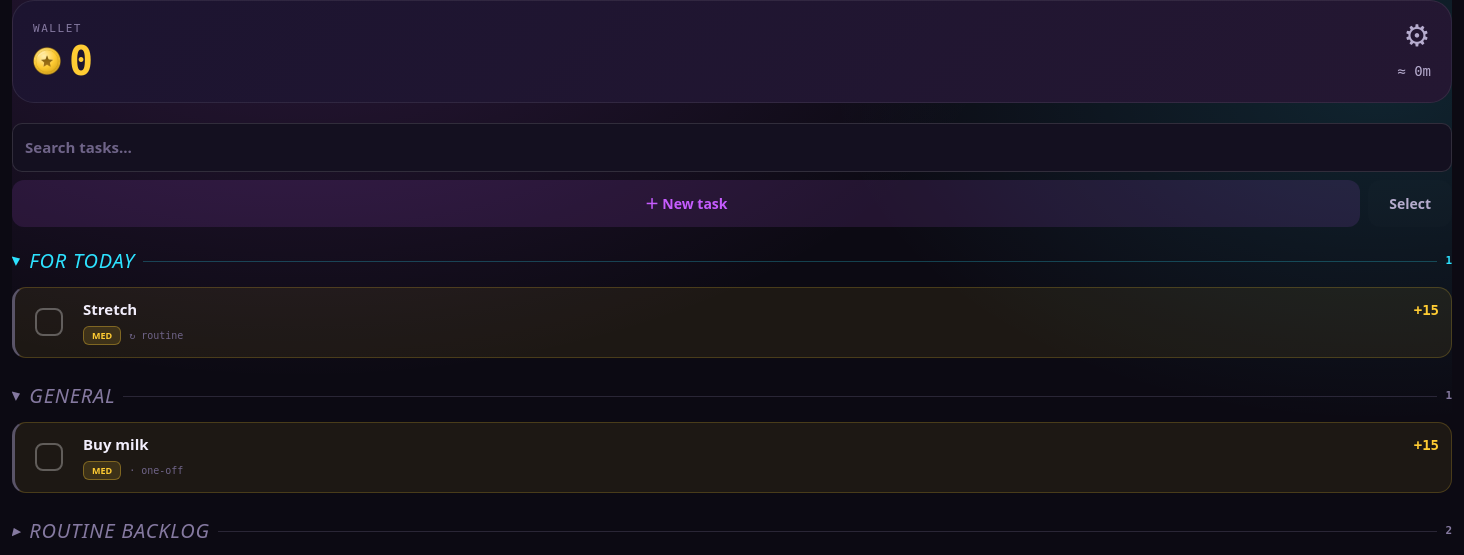
searching the list › narrows the list as it is typed, with nothing to submit
This screenshot has width=1464, height=555.
Expected: the button "Buy milk" is shown, [83,435,1402,453]
Type "milk" into the search field labelled "Search tasks…" at (732, 148), box [12,123,1452,172]
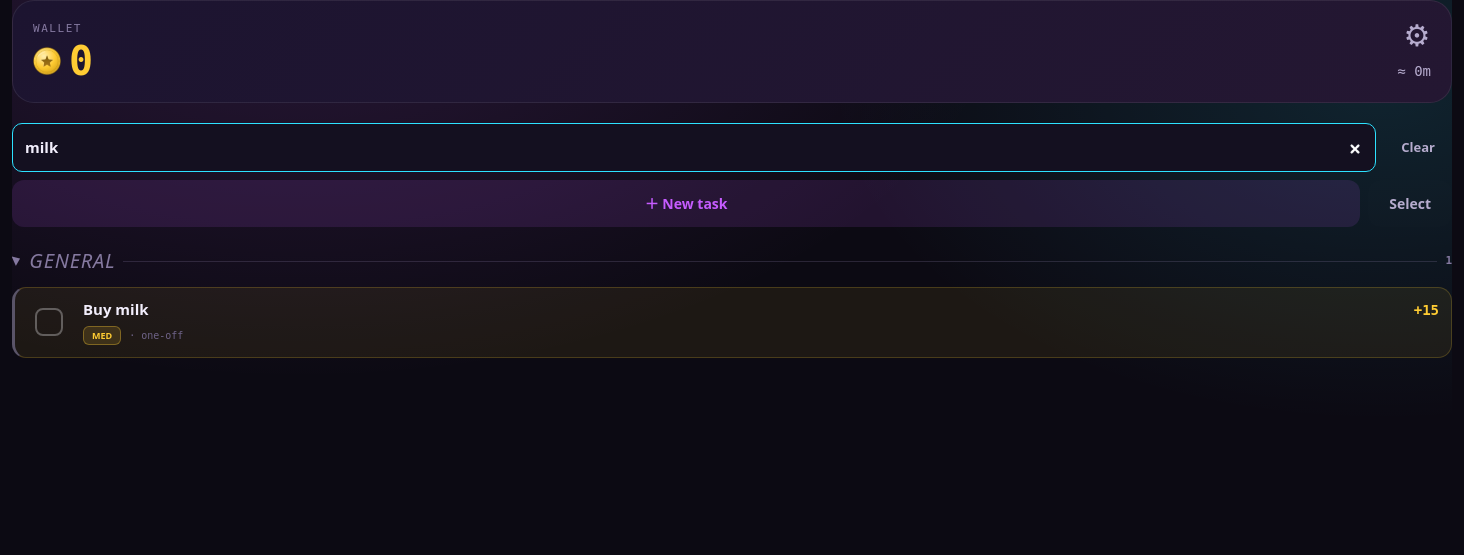
Expected: the button "Buy milk" is shown, [83,300,1402,318]
Now the button "Stretch" is gone
